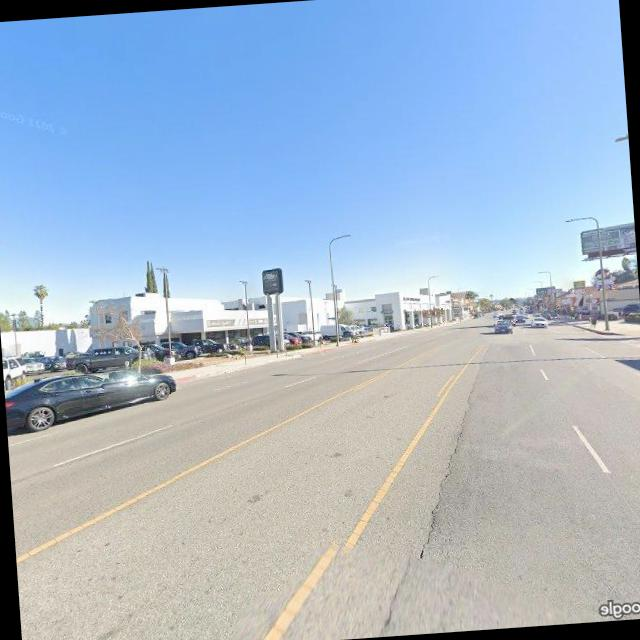pothole: (407, 375, 492, 554)
